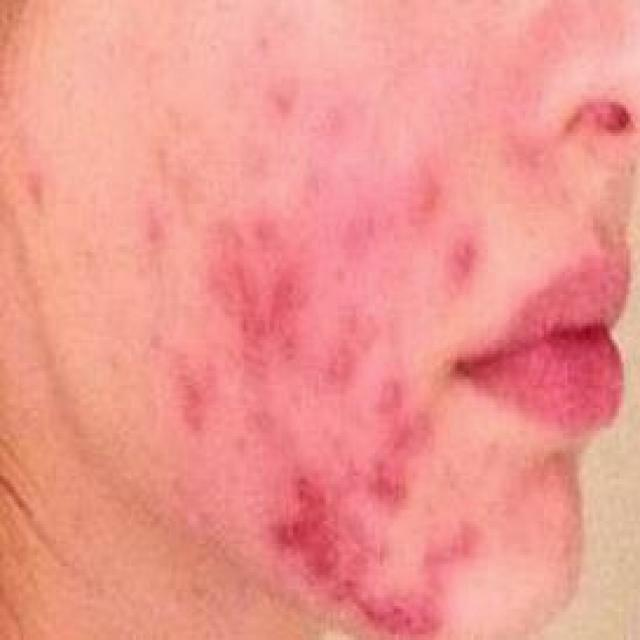Pimples: (265, 456, 359, 589), (216, 260, 300, 354), (426, 510, 481, 570), (169, 342, 204, 430), (368, 448, 401, 504), (319, 334, 354, 382), (410, 167, 436, 221), (138, 193, 162, 249), (448, 235, 476, 278), (26, 162, 47, 210), (248, 206, 272, 244), (270, 74, 294, 110), (378, 368, 398, 411)
